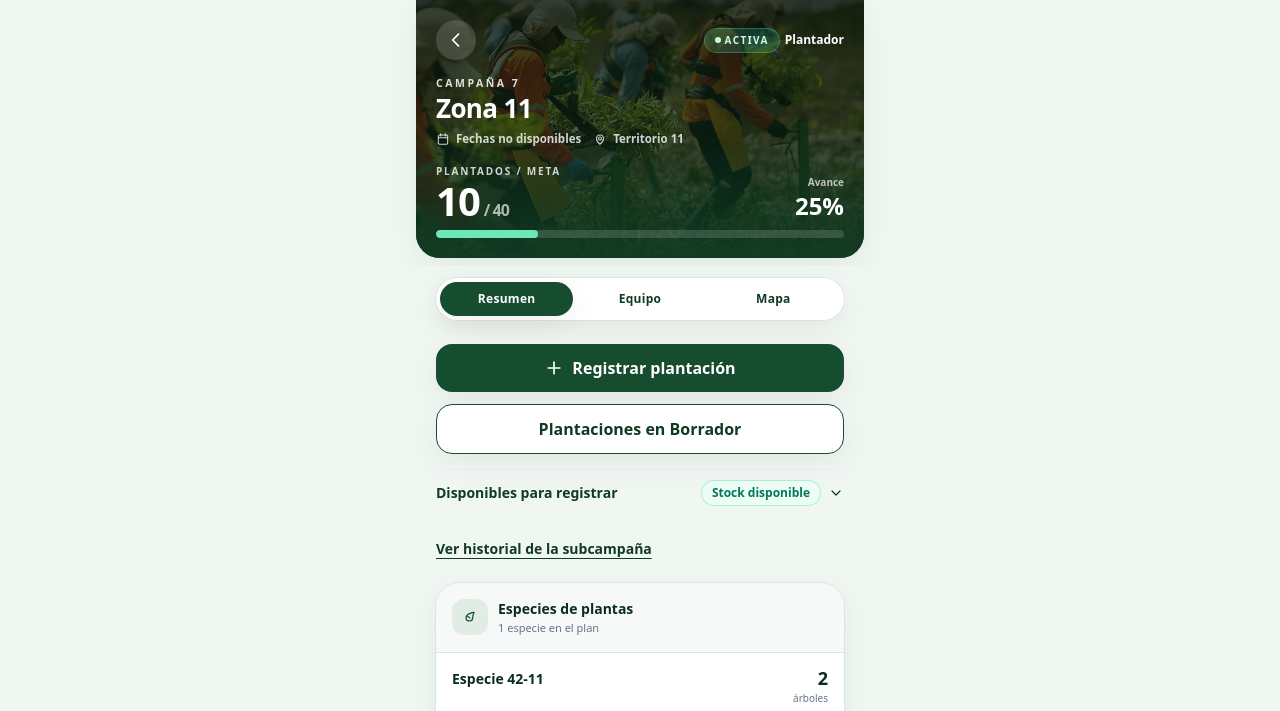
Scenario: Participar centrado en campañas y subcampañas habilitadas › conserva el historial de una subcampaña cerrada sin consultar stock ni ofrecer registro
Check: the link "Registrar plantación" is shown, box [436,344,844,392]
Click the button named "Volver". click: [456, 40]
box: [436,20,476,60]
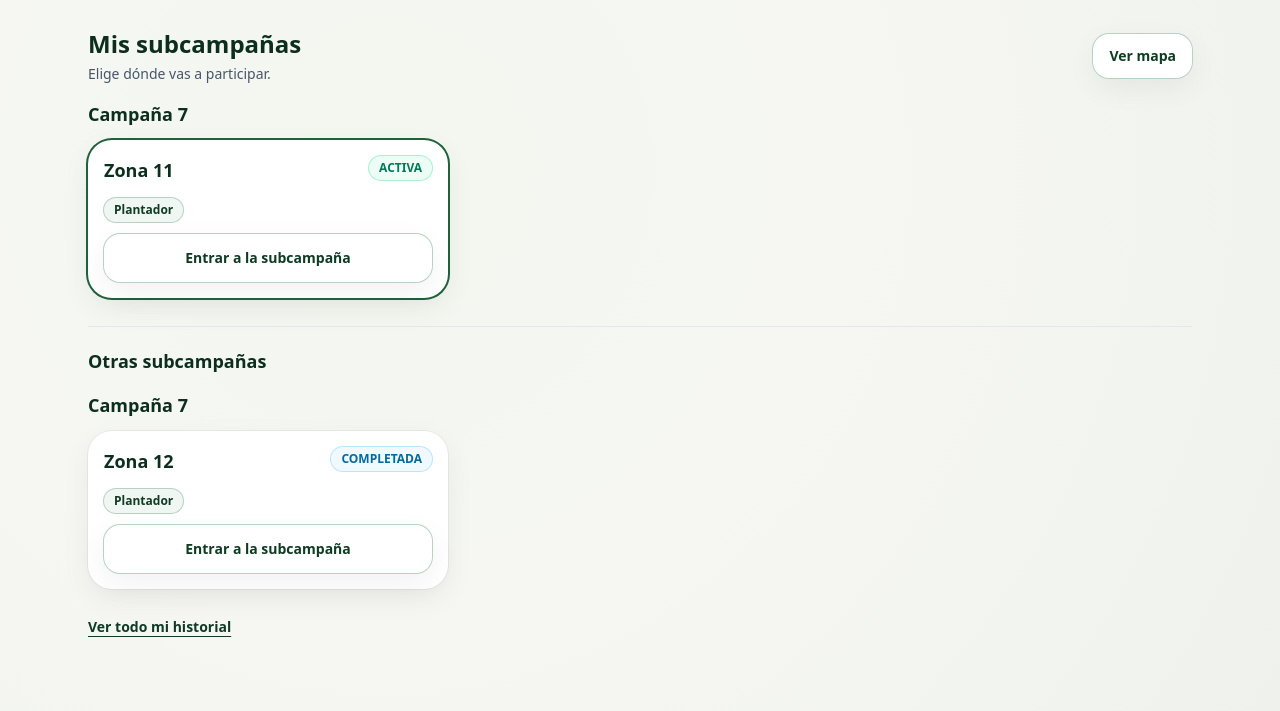
Click the button with aria-label "Entrar a la subcampaña: Zona 12". click: [268, 549]
box: [104,525,432,573]
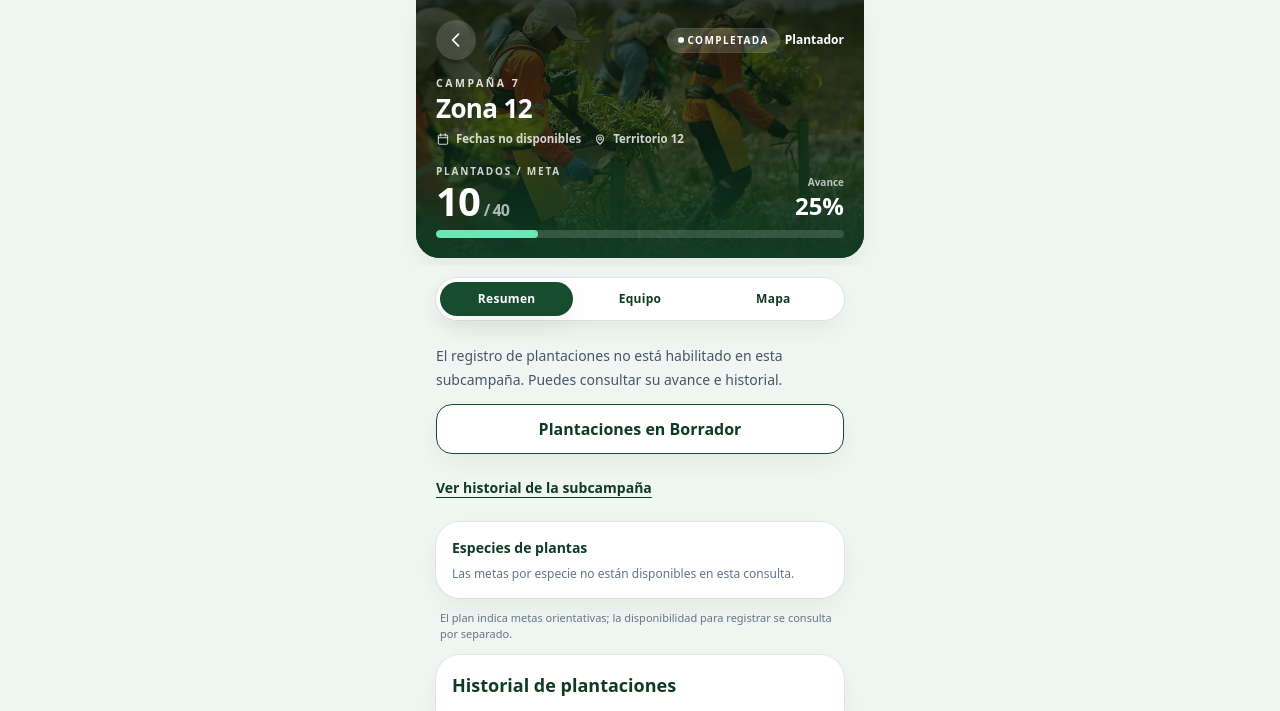
Check: the link "Registrar plantación" is not shown
Check: the text "El registro de plantaciones no está habilitado" is shown, box [436,346,783,389]
